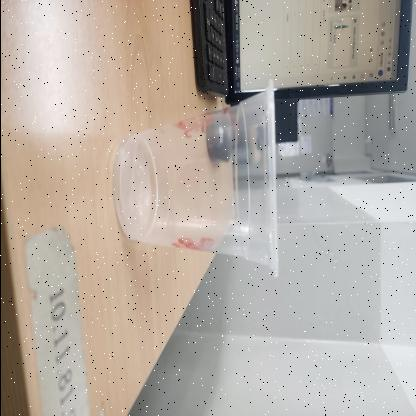Others: (113, 79, 276, 281)
